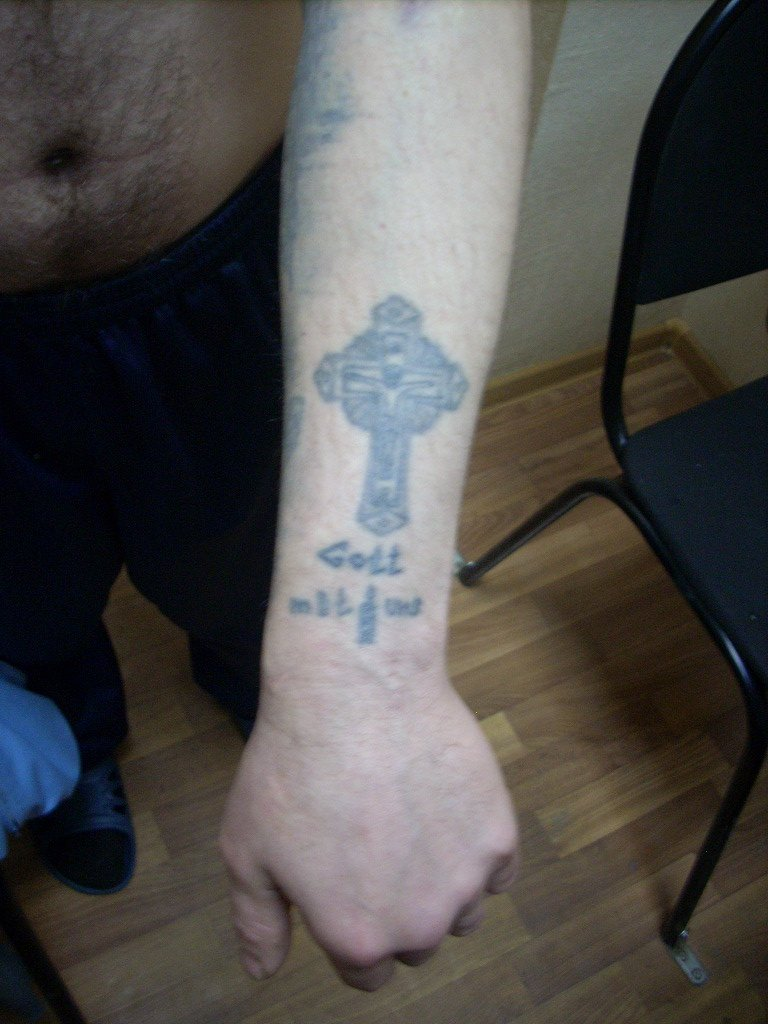tatu3_bukva: (303, 539, 415, 579)
tatu9_krest: (304, 281, 479, 543)
